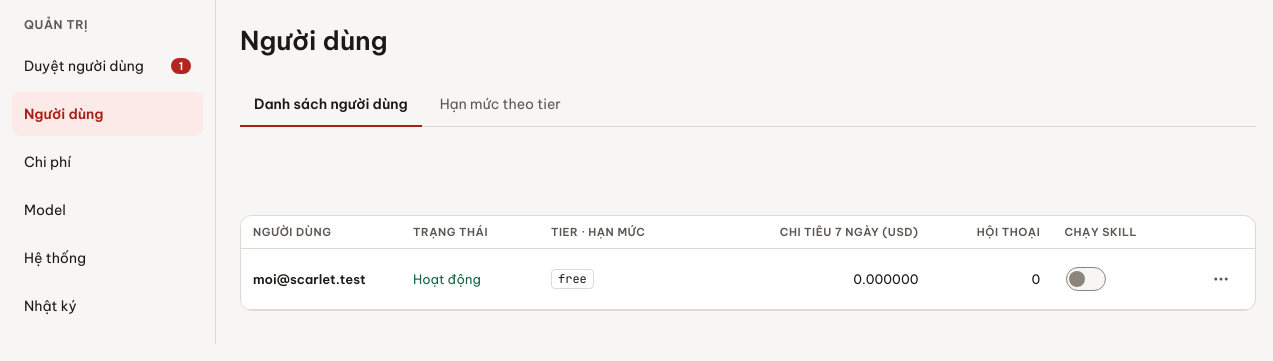
Test: Nguoi dung › bat skill ⇒ PATCH ca ban ghi de; cau hieu luc dung TTL cua SERVER; hang mang nhan cho
The image size is (1273, 361).
Click the switch named "Chạy skill — moi@scarlet.test" at (1086, 279), box [1064,257,1108,301]
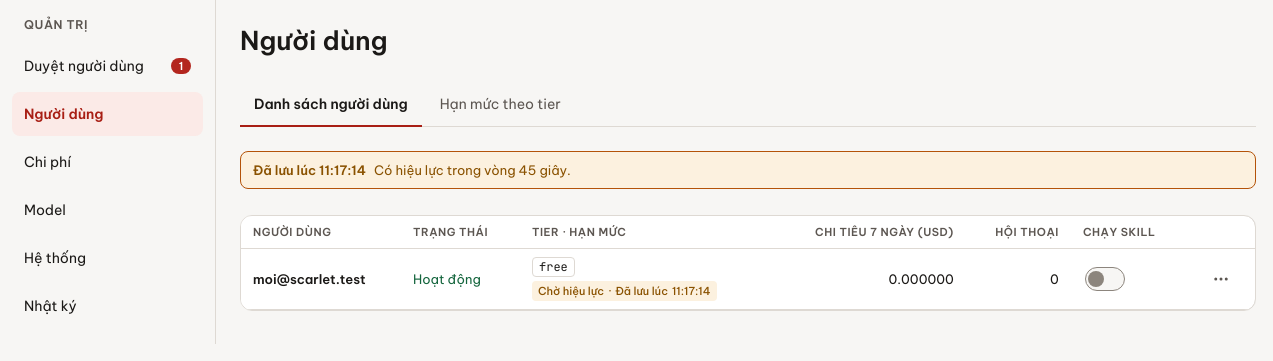
Now the text "Có hiệu lực trong vòng 45 giây." is shown, box [374,160,571,180]
Now the text "Chờ hiệu lực" is shown, box [538,283,604,299]
